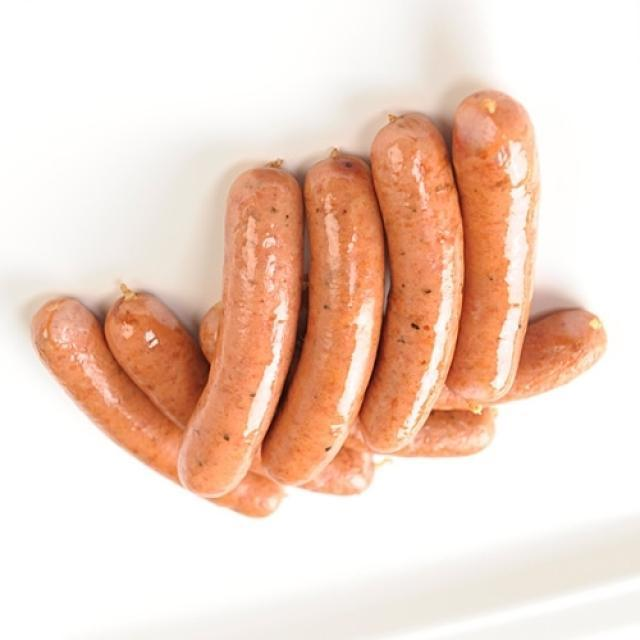Sausage: (20, 86, 618, 524)
